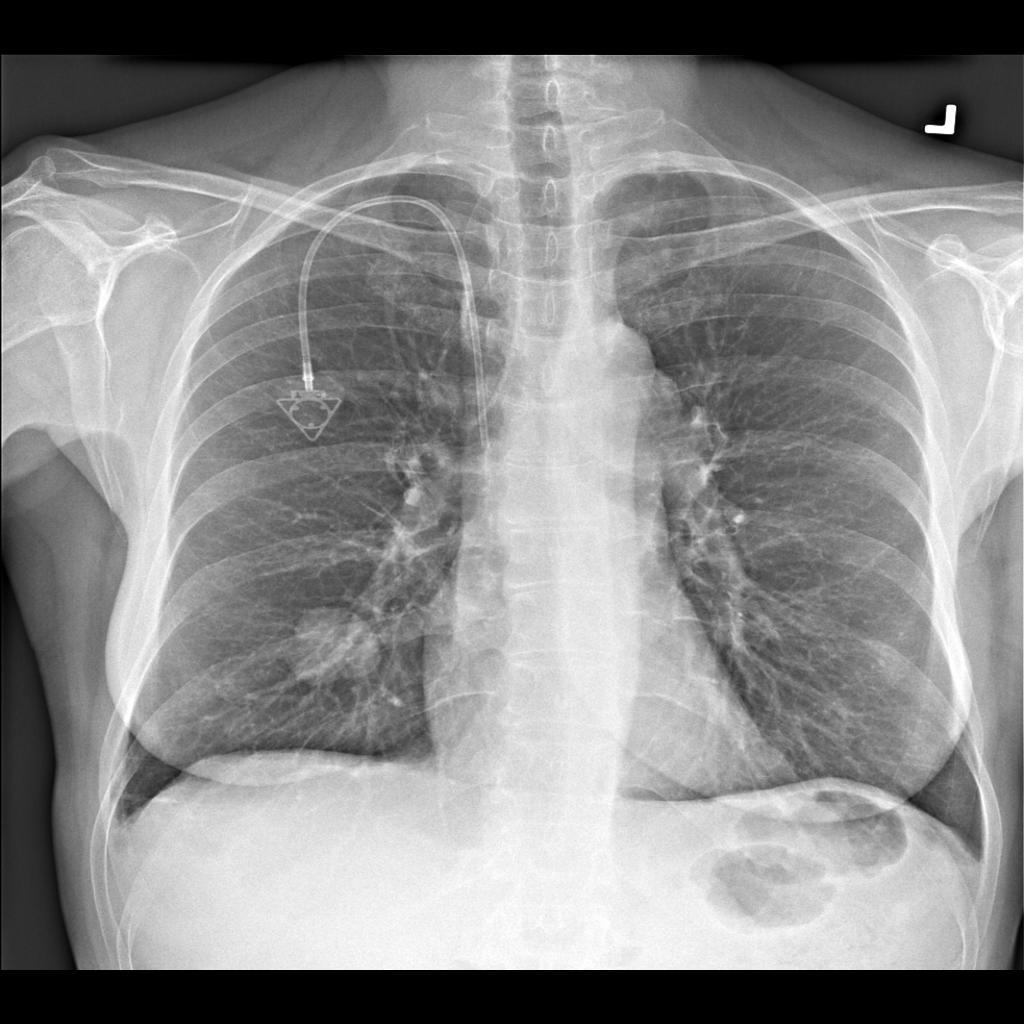Nodule: (286, 601, 378, 696)
